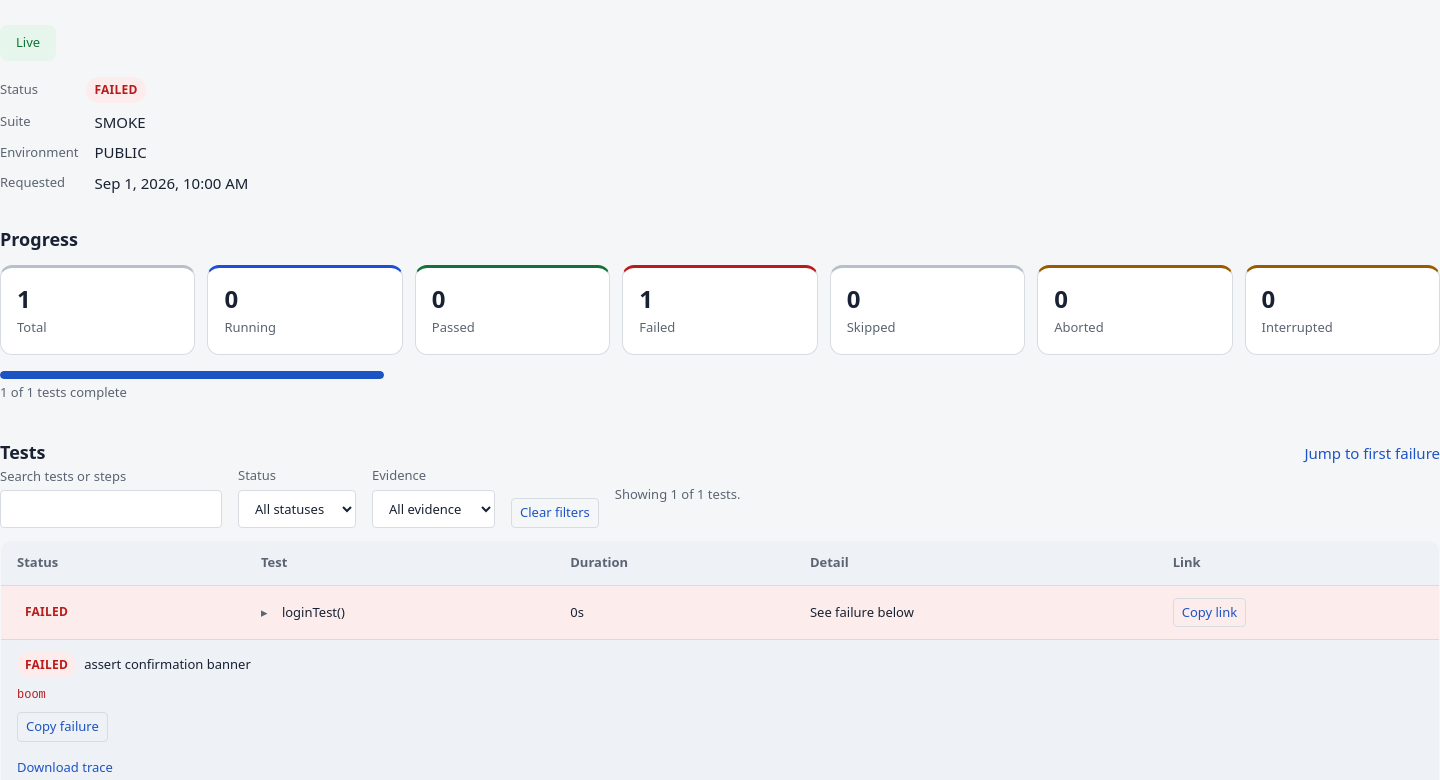
Test: RunDetailsPage › renders nested step state and links a failed step's artifact (Faza B drill-down)
This screenshot has width=1440, height=780.
Expected: the 1st text "FAILED" is shown, top-left (86, 76), bottom-right (146, 102)
Note: Test rows with steps are collapsed by default - expand before their steps are visible.
Click the button "▸ loginTest()". click: x=303, y=612
box: top-left (261, 602), bottom-right (345, 622)
(page scrolled)
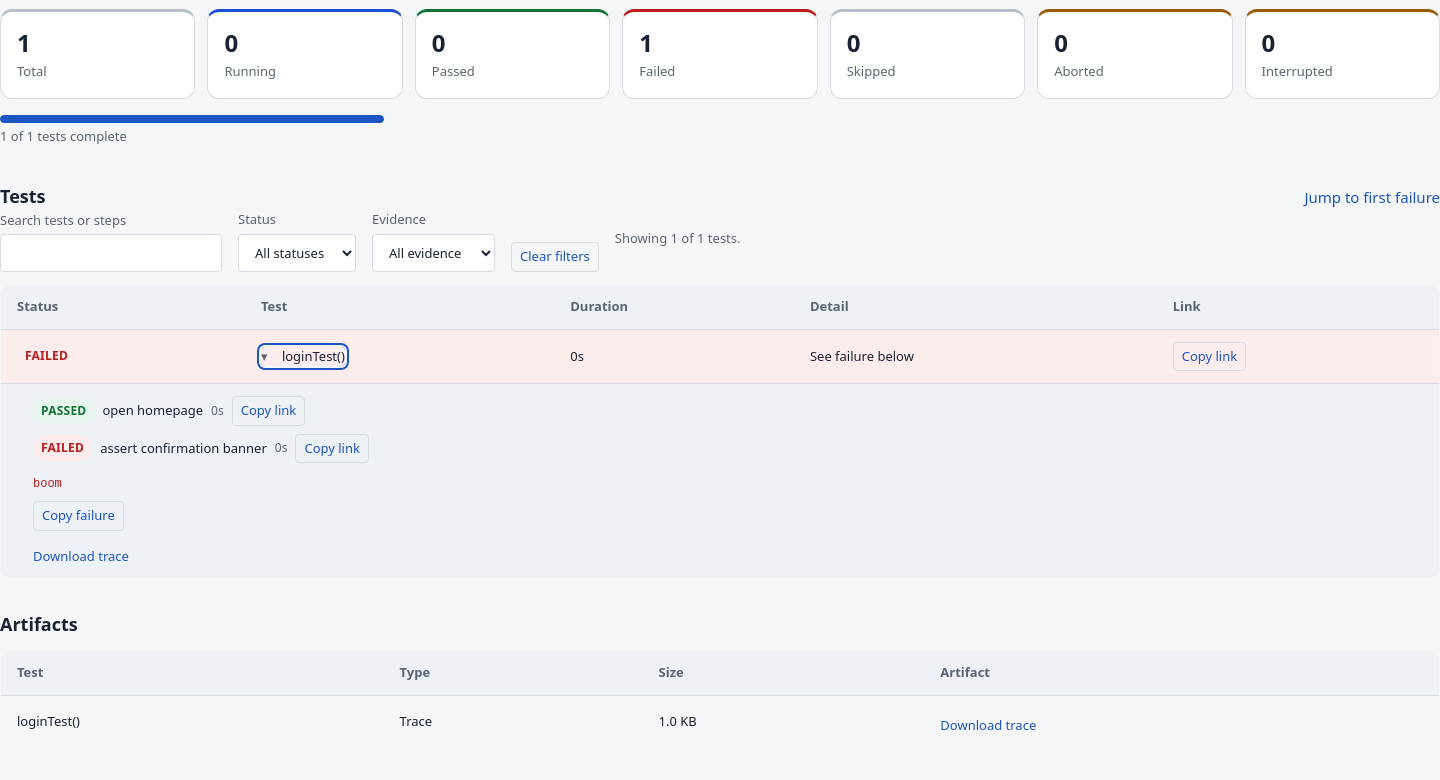
Expected: the text "assert confirmation banner" is shown, top-left (100, 438), bottom-right (267, 458)
Now the text "open homepage" is shown, box top-left (102, 400), bottom-right (203, 420)
